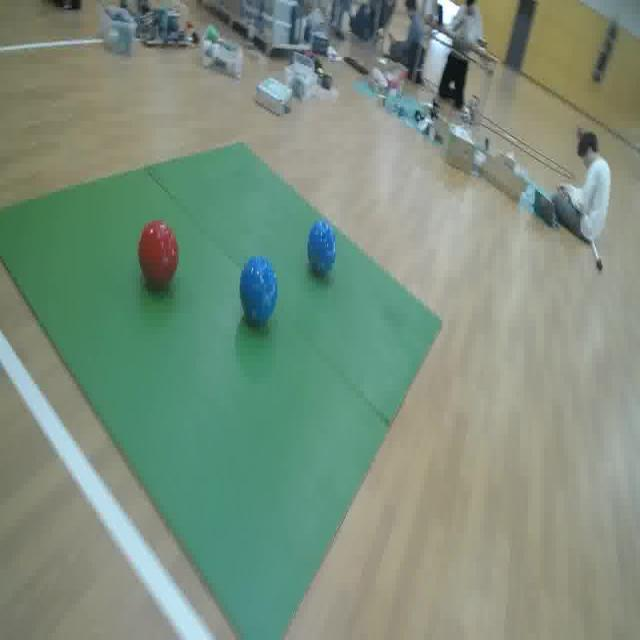blue_ball: (238, 256, 280, 327), (307, 218, 337, 279)
red_ball: (136, 218, 182, 292)
